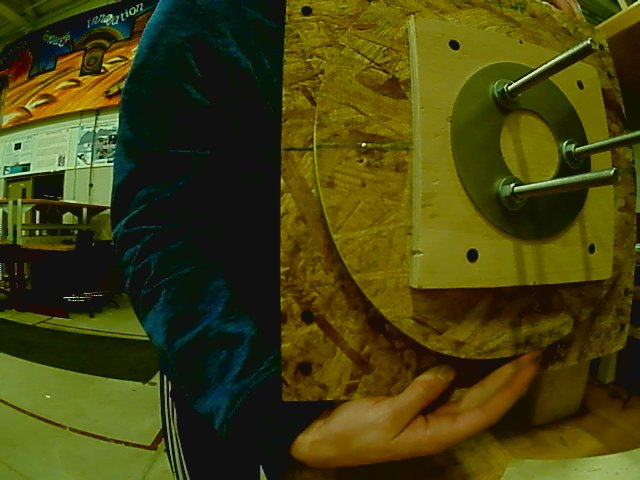bolt: (496, 174, 528, 214), (492, 77, 521, 111), (561, 136, 585, 172)
